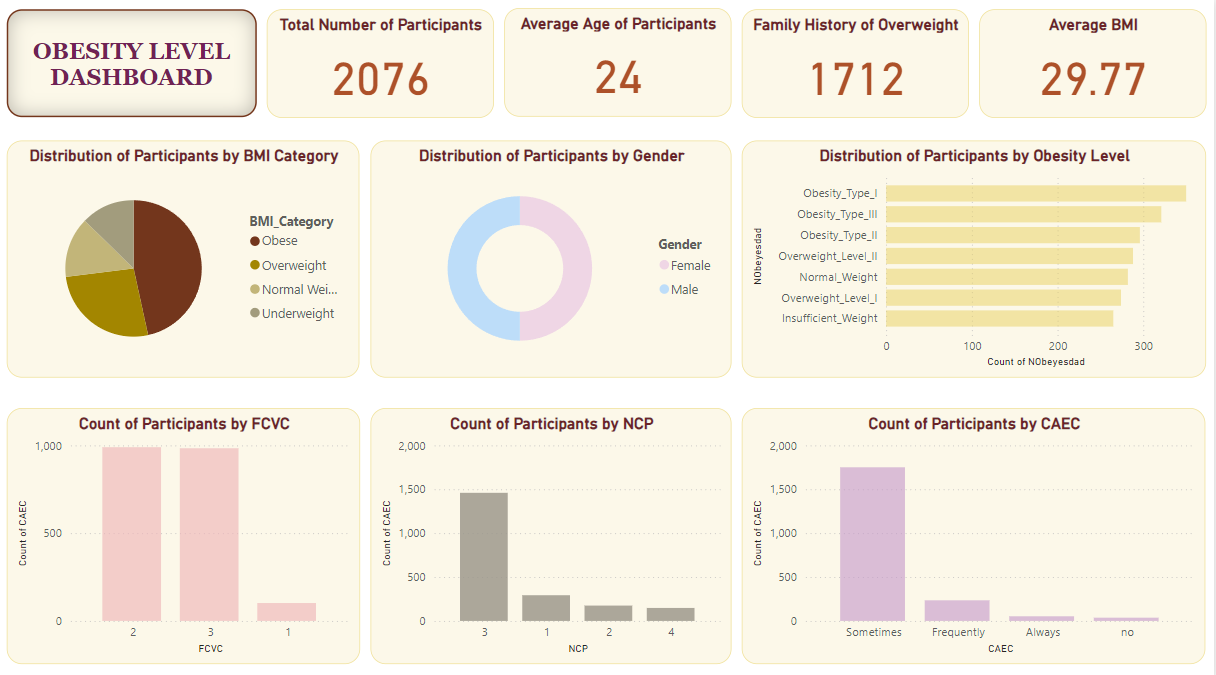

The dashboard page shown, as its layout file describes it:
{"tool":"powerbi","page":{"name":"Page 1","canvas":[1280,720],"ordinal":0},"visuals":[{"type":"card","title":"Total Number of Participants","fields":{"Values":["CountNonNull(obersity.Age)"]},"box":[282.3,12.1,238.9,114.6],"z":0},{"type":"card","title":"Average Age of Participants","fields":{"Values":["Avg(obersity.Age)"]},"box":[533.2,10.9,238.9,114.6],"z":1000},{"type":"card","title":"Average BMI","fields":{"Values":["Avg(obersity.BMI)"]},"box":[1032.7,12.1,238.9,114.6],"z":2000},{"type":"card","title":"Family History of Overweight","fields":{"Values":["obersity.Fam_history"]},"box":[783,12.1,238.9,114.6],"z":3000},{"type":"pieChart","title":"Distribution of Participants by BMI Category","fields":{"Category":["obersity.BMI_Category"],"Y":["CountNonNull(obersity.BMI_Category)"]},"box":[9.7,149.6,371.6,249.7],"z":4000},{"type":"donutChart","title":"Distribution of Participants by Gender","fields":{"Category":["obersity.Gender"],"Y":["Count(obersity.Gender)"]},"box":[392.1,149.6,380,249.7],"z":5000},{"type":"barChart","title":"Distribution of Participants by Obesity Level","fields":{"Y":["CountNonNull(obersity.NObeyesdad)"],"Category":["obersity.NObeyesdad"]},"box":[783,149.6,488.6,249.7],"z":6000},{"type":"columnChart","title":"Count of Participants by CAEC","fields":{"Category":["obersity.CAEC"],"Y":["CountNonNull(obersity.CAEC)"]},"box":[782.9,431.6,488.2,269.7],"z":7000},{"type":"columnChart","title":"Count of Participants by NCP","fields":{"Category":["obersity.NCP"],"Y":["CountNonNull(obersity.CAEC)"]},"box":[392.1,431.6,380.3,269.7],"z":8000},{"type":"columnChart","title":"Count of Participants by FCVC","fields":{"Category":["obersity.FCVC"],"Y":["CountNonNull(obersity.CAEC)"]},"box":[9.2,431.6,372.4,269.7],"z":9000},{"type":"textbox","box":[9.7,12.1,263,113.4],"z":10000}]}

Visuals, with their boxes in screenshot pixels (x1, y1, x2, y2), scaled from the page's 1280x720 canvas onto the 1216x675 screenshot:
"Total Number of Participants" card: box=[268, 11, 495, 119]
"Average Age of Participants" card: box=[507, 10, 733, 118]
"Average BMI" card: box=[981, 11, 1208, 119]
"Family History of Overweight" card: box=[744, 11, 971, 119]
"Distribution of Participants by BMI Category" pieChart: box=[9, 140, 362, 374]
"Distribution of Participants by Gender" donutChart: box=[372, 140, 733, 374]
"Distribution of Participants by Obesity Level" barChart: box=[744, 140, 1208, 374]
"Count of Participants by CAEC" columnChart: box=[744, 405, 1208, 657]
"Count of Participants by NCP" columnChart: box=[372, 405, 734, 657]
"Count of Participants by FCVC" columnChart: box=[9, 405, 363, 657]
textbox: box=[9, 11, 259, 118]
